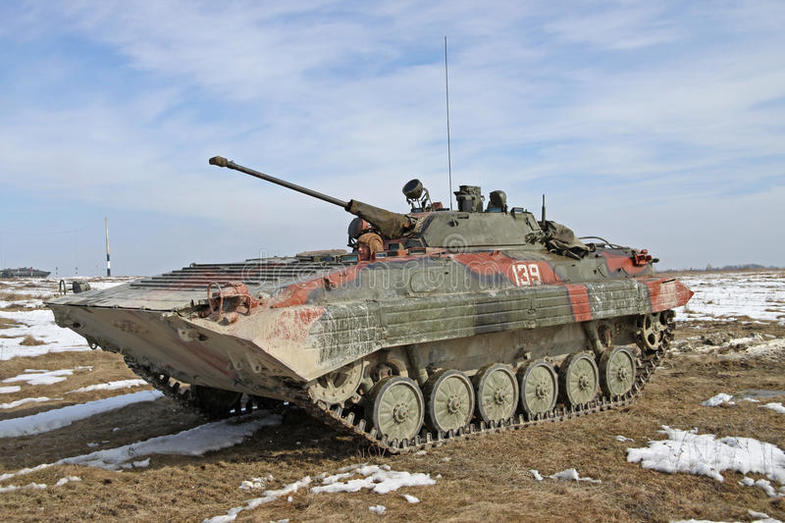bmp: (55, 185, 687, 449)
